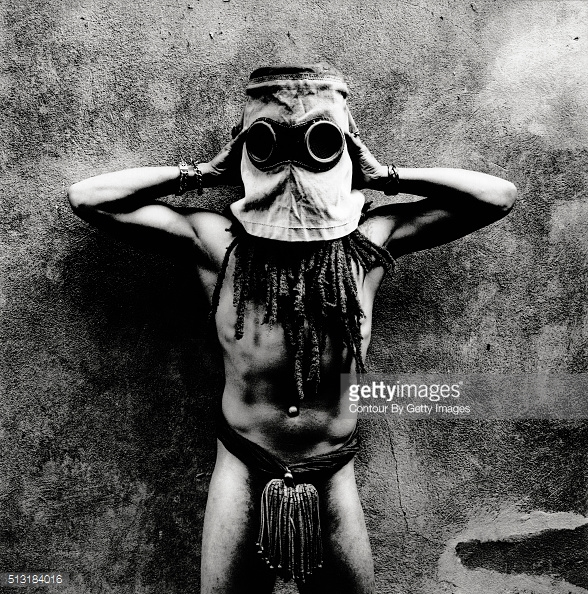em pe: (107, 27, 428, 594)
